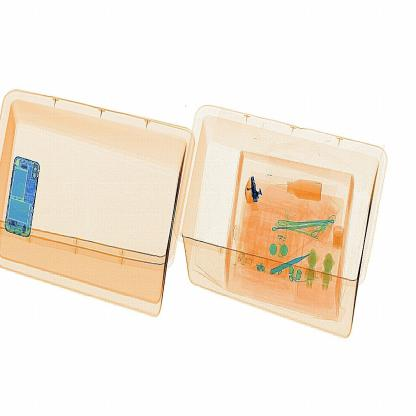pliers: (245, 171, 265, 210)
